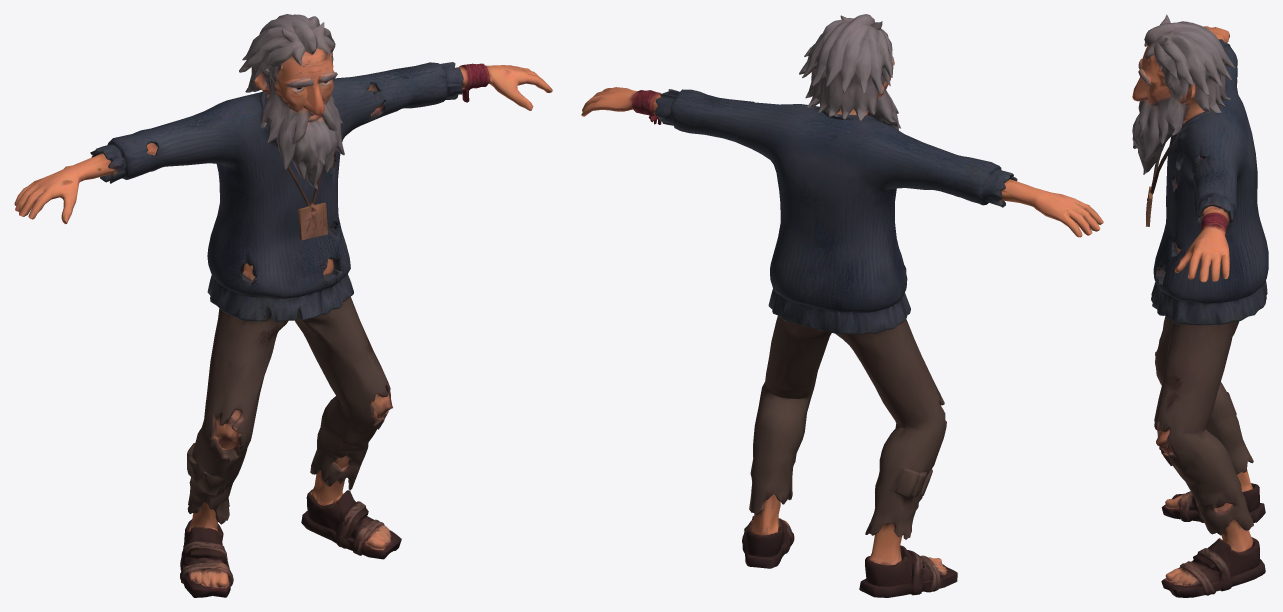
Rendered from char_slave_m_old_idle.glb.
3 views of the same model, side by side, from view 1: azimuth 30°, elevation 25°; view 2: azimuth 150°, elevation 25°; view 3: azimuth 270°, elevation 25° (orthographic). The views are drawn at different scales.
Parts seen in each view (by area): view 1: tripo_node_a943000d-4588-4413-ad66-861f6a776bb2; view 2: tripo_node_a943000d-4588-4413-ad66-861f6a776bb2; view 3: tripo_node_a943000d-4588-4413-ad66-861f6a776bb2.
Part boxes in pixels (x1,y1,x2,y2): tripo_node_a943000d-4588-4413-ad66-861f6a776bb2: (14,14,552,597); tripo_node_a943000d-4588-4413-ad66-861f6a776bb2: (581,14,1103,597); tripo_node_a943000d-4588-4413-ad66-861f6a776bb2: (1132,14,1268,597).
Bounding box in the file's own units: 1.74 × 1.74 × 0.4069.
1 material, 1 textured.
